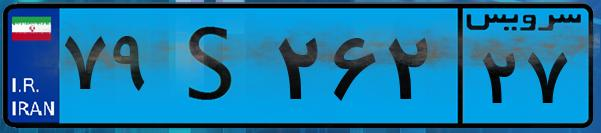2: (270, 28, 330, 110), (385, 28, 445, 110), (475, 38, 525, 113)
6: (330, 28, 385, 110)
7: (57, 26, 110, 100), (525, 38, 570, 115)
9: (110, 28, 158, 98)
S: (158, 12, 270, 120)
